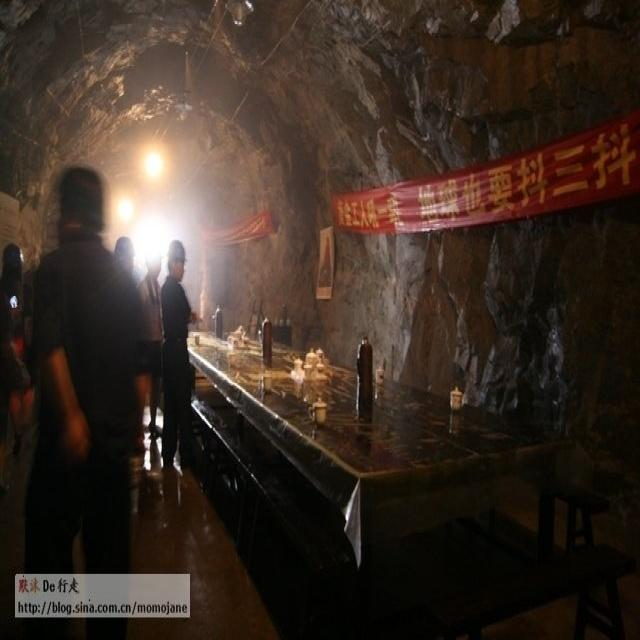helmet: (114, 310, 138, 366), (166, 319, 189, 377)
